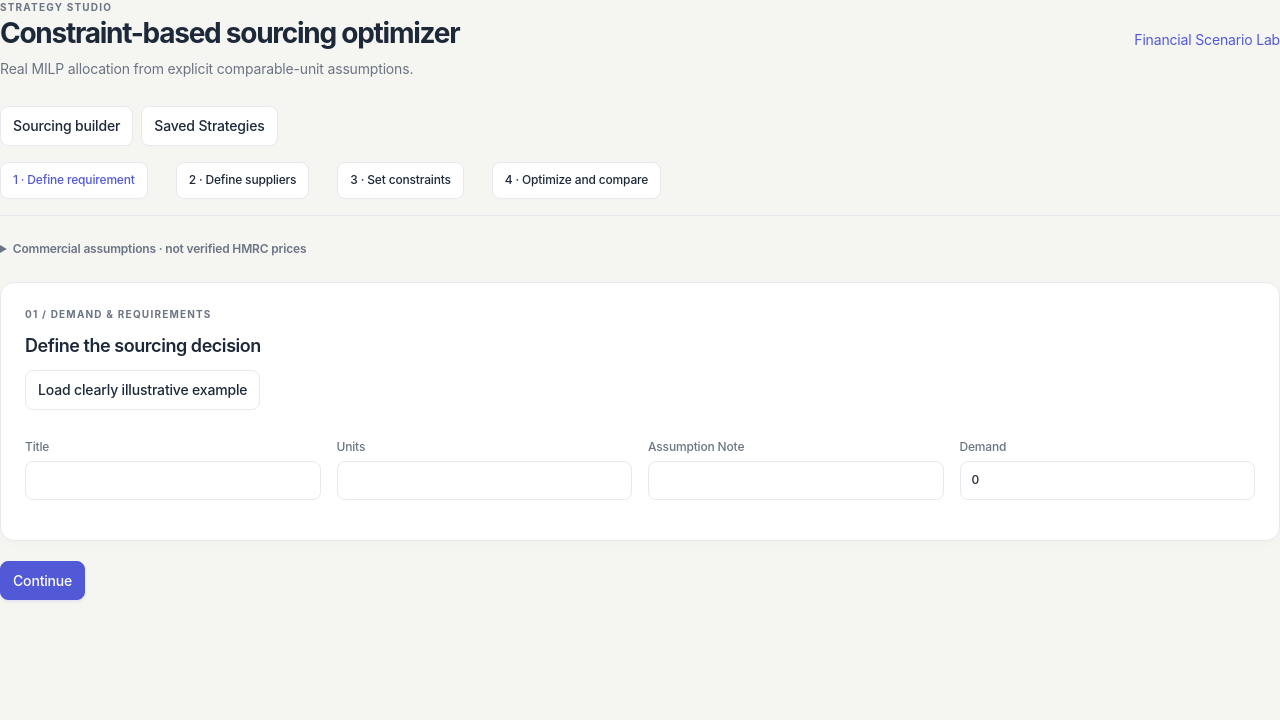
Test: Product workflows › submits explicit optimizer assumptions and distinguishes an infeasible solver outcome
Click the button "Load clearly illustrative example" at (143, 390), box x1=25 y1=370 x2=260 y2=410
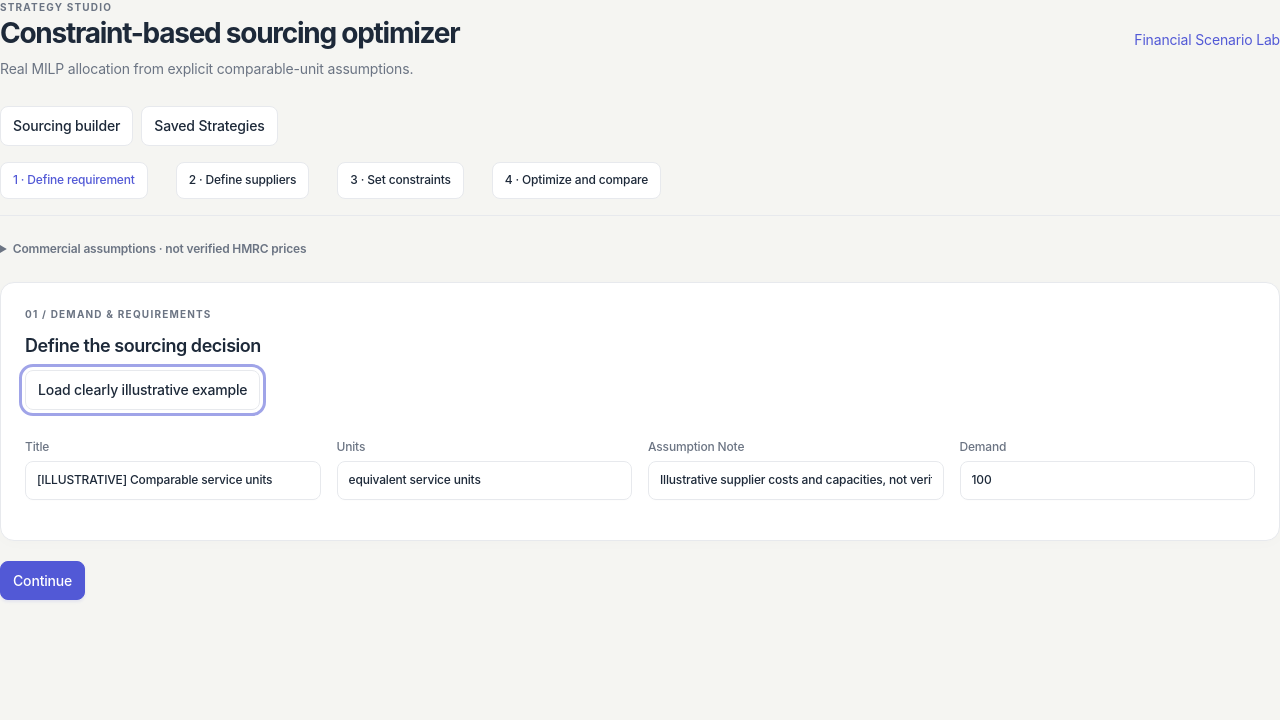
Click the button "4 · Optimize and compare" at (576, 180), box x1=492 y1=162 x2=661 y2=199
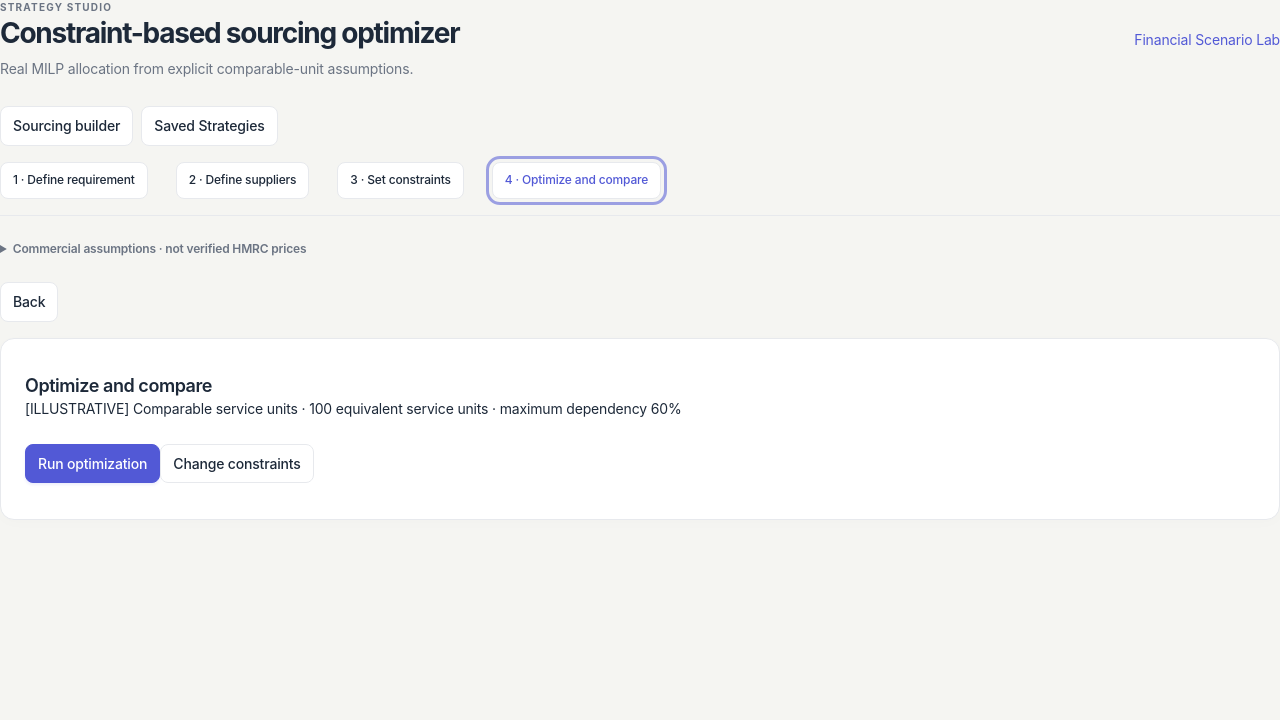
Click the button "Run optimization" at (93, 464), box x1=25 y1=444 x2=160 y2=484
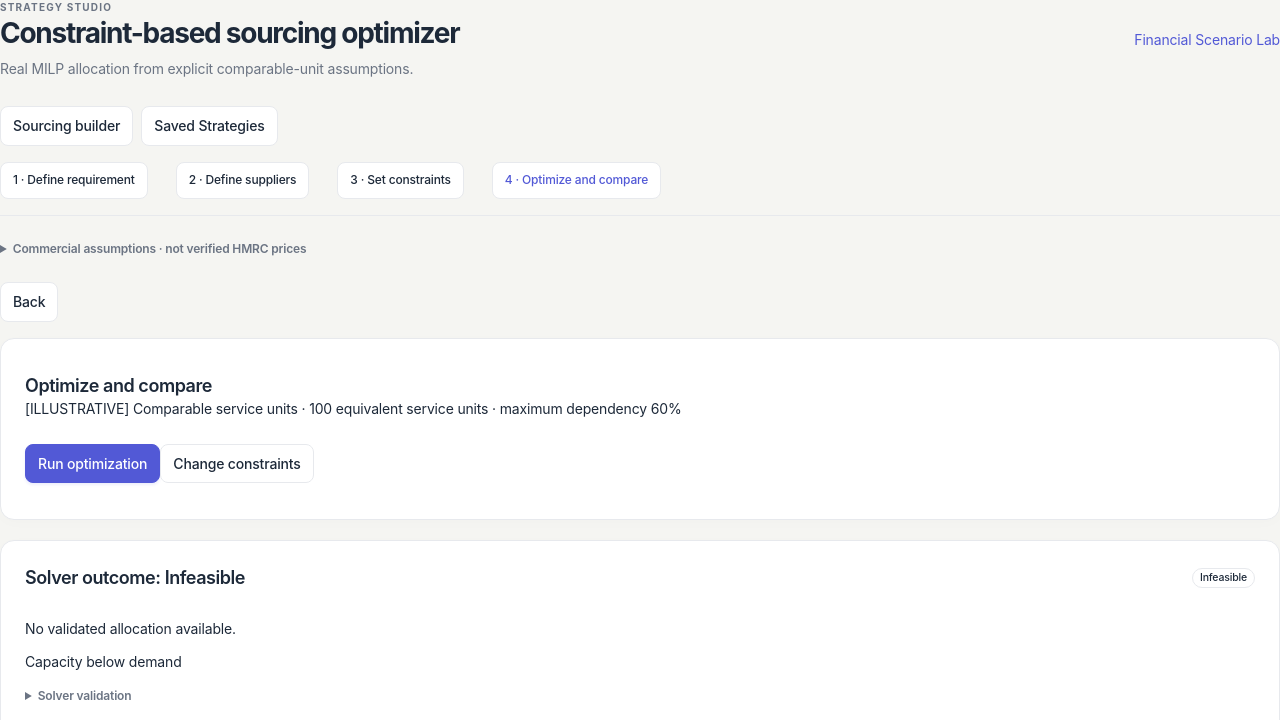
expect the heading "Solver outcome: Infeasible" is shown: met, box x1=25 y1=566 x2=245 y2=591
expect the text "Capacity below demand" is shown: met, box x1=25 y1=653 x2=182 y2=670
